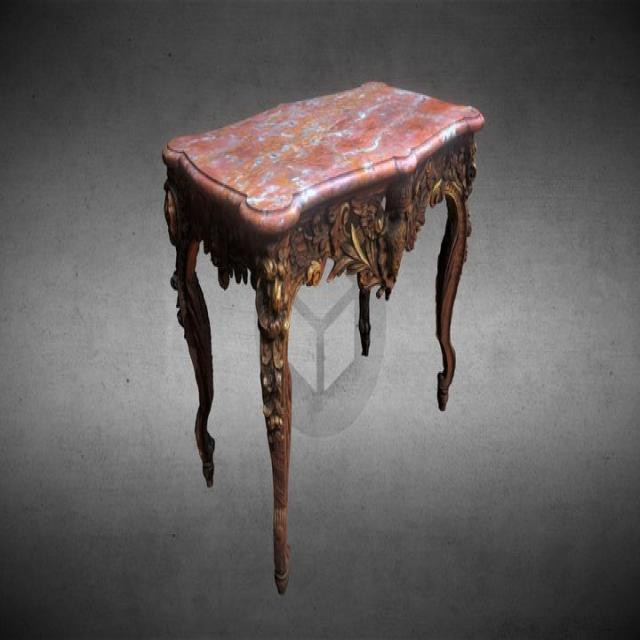table: (160, 80, 487, 593)
